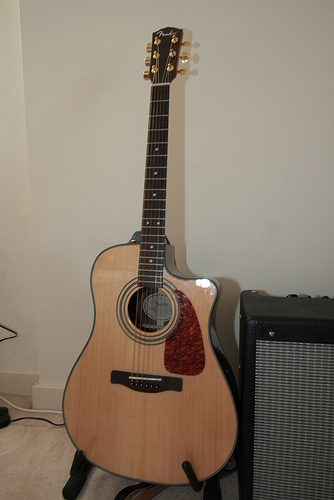guitar: (63, 25, 247, 484)
